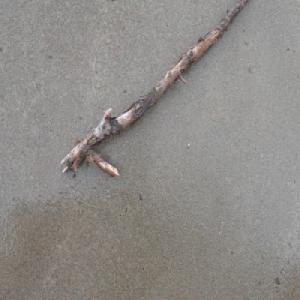Wood: (58, 0, 251, 180)
